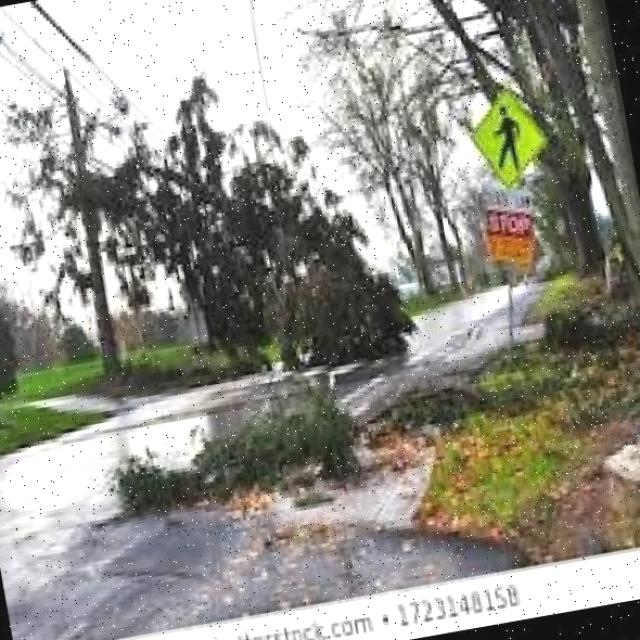fallen_object: (57, 56, 422, 416)
